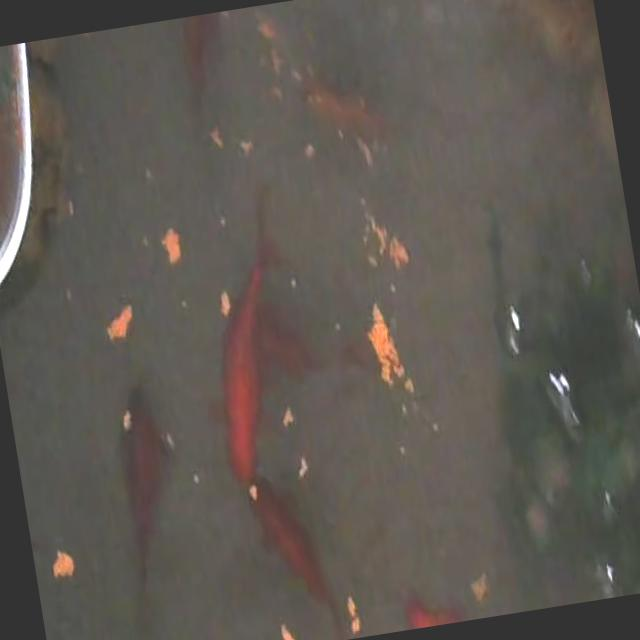fish: (194, 238, 295, 488), (106, 379, 198, 608), (238, 458, 349, 640), (247, 292, 364, 398), (302, 68, 400, 164), (402, 569, 556, 630), (173, 12, 236, 121)
